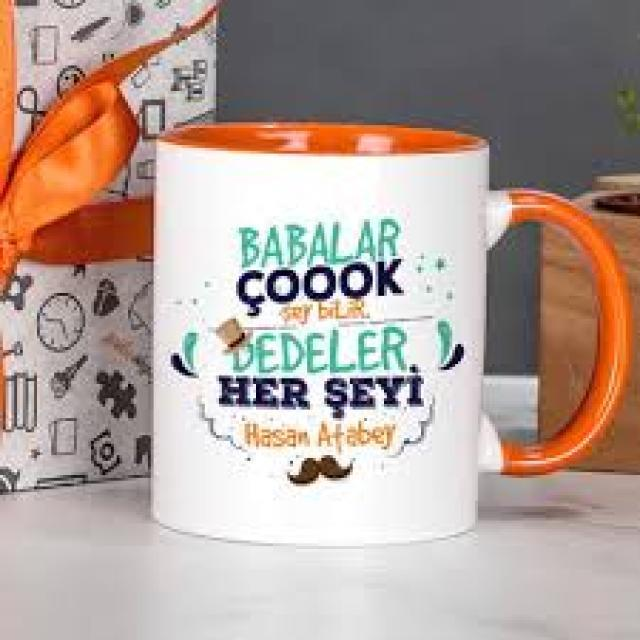taza: (154, 120, 634, 546)
